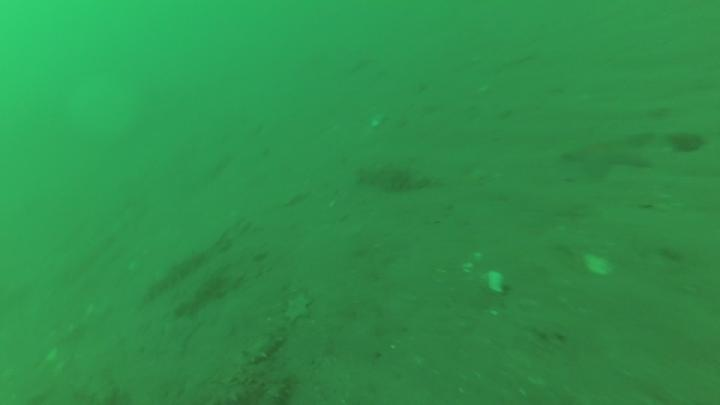holothurian: (134, 247, 211, 297), (169, 273, 230, 319), (353, 161, 445, 191), (233, 328, 285, 366)
starfish: (565, 126, 653, 177)
